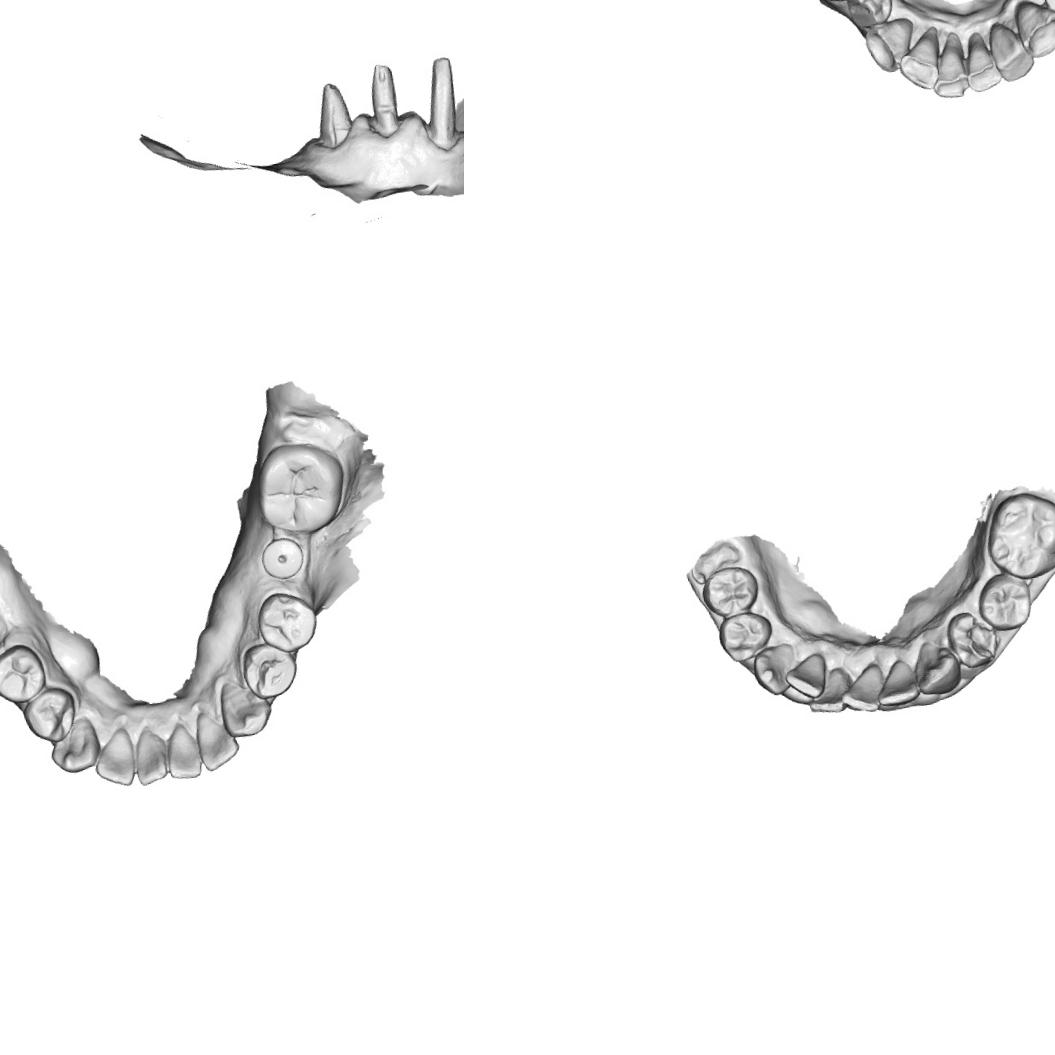canine: (215, 674, 277, 740), (860, 17, 923, 76), (45, 713, 104, 776), (1013, 0, 1055, 60), (916, 641, 962, 694), (752, 644, 794, 697)
crown: (413, 52, 464, 151), (360, 56, 412, 142), (307, 76, 359, 152)
implant: (255, 532, 309, 584)
incisor: (192, 705, 243, 773), (985, 16, 1035, 84), (89, 724, 139, 790), (894, 32, 944, 91), (926, 37, 970, 103), (872, 659, 924, 712), (130, 724, 172, 788), (962, 32, 1004, 95), (162, 720, 204, 782), (837, 666, 888, 717), (804, 672, 852, 719), (783, 657, 826, 702)
molar: (249, 436, 352, 539), (981, 489, 1055, 582)
premolar: (252, 586, 321, 656), (238, 638, 302, 702), (20, 683, 82, 746), (945, 608, 1003, 672), (716, 608, 777, 666), (977, 572, 1034, 631), (700, 563, 760, 618), (0, 641, 49, 707), (842, 0, 894, 30)
